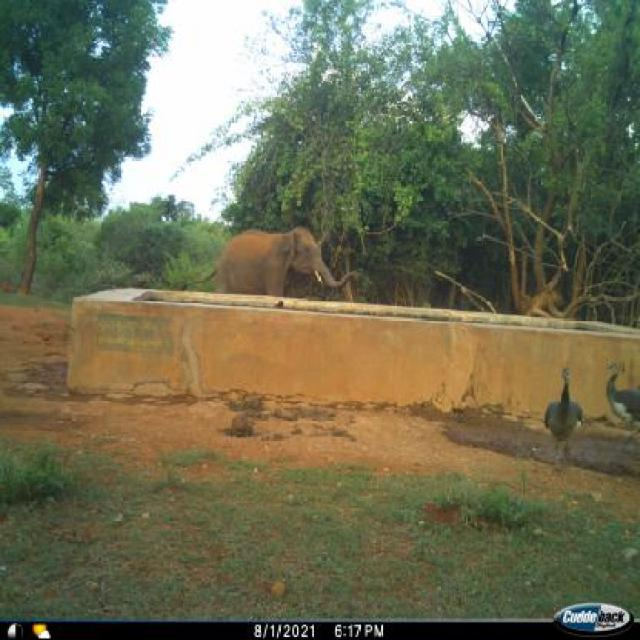Elephant: (174, 210, 355, 382)
